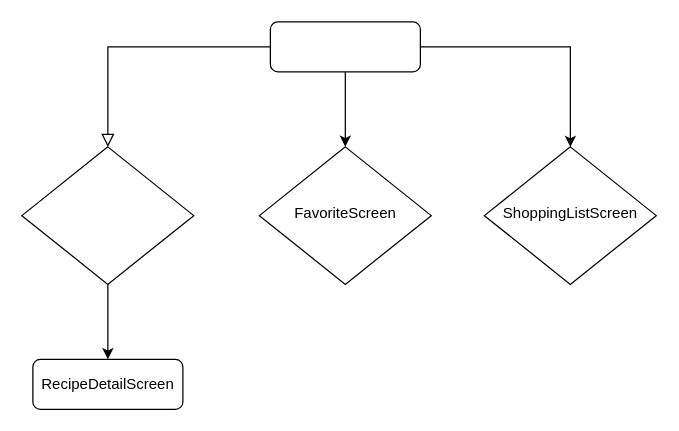
Image size: 679x431. Some labels were removed from this diagram. Each missing label, with the box of its shape:
DefaultScreen: (269, 21, 420, 72)
HomeScreen: (21, 146, 194, 284)
